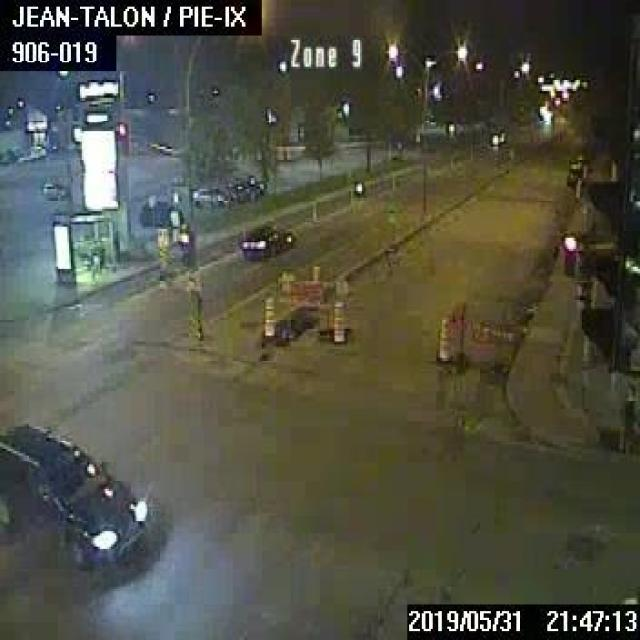construction: (448, 299, 528, 373), (434, 318, 450, 362), (261, 295, 274, 339)
pedestrian: (78, 234, 102, 276)
vehicle: (0, 418, 151, 569), (272, 264, 348, 345), (235, 222, 292, 258), (140, 197, 182, 227), (190, 185, 230, 207), (331, 299, 345, 343), (564, 161, 585, 187), (42, 178, 68, 197), (228, 184, 256, 200), (534, 104, 554, 125), (489, 126, 506, 144)
